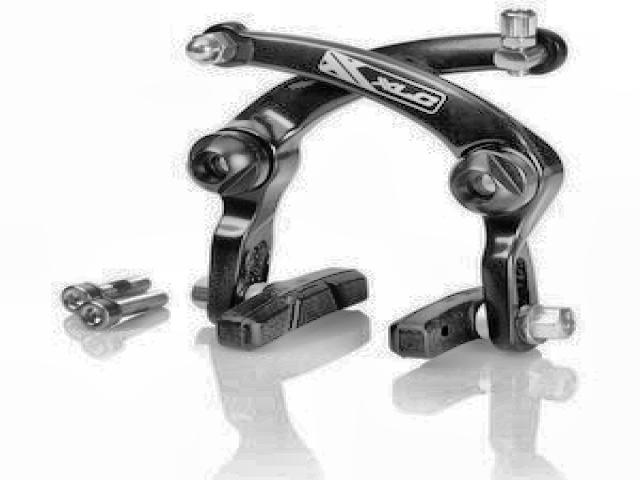rim_brake: (183, 6, 575, 361)
